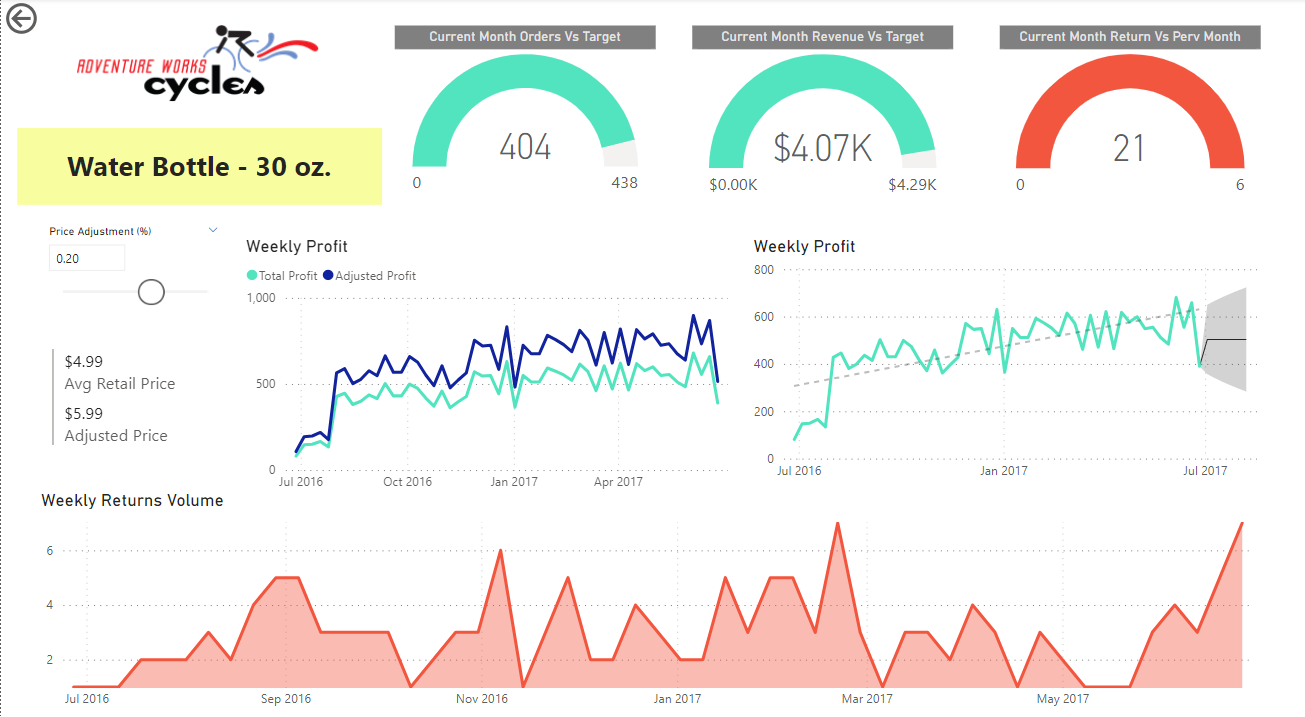

What the dashboard file says about the page in this screenshot:
{"tool":"powerbi","page":{"name":"Product Detail","canvas":[1280,720],"ordinal":1},"visuals":[{"type":"image","box":[69.9,0,248.2,127.5],"z":0},{"type":"lineChart","title":"Weekly Profit","fields":{"Y":["AW_Sales.Total Profit"],"Category":["AW_Calendar_Lookup.Start of Week"]},"box":[730.8,231.7,514.1,248.2],"z":1000},{"type":"areaChart","title":"Weekly Returns Volume","fields":{"Category":["AW_Calendar_Lookup.Start of Week"],"Y":["AW_Returns.Total Returns"]},"box":[34.3,479.9,1210.6,223.5],"z":2000},{"type":"gauge","title":"Current Month Orders Vs Target","fields":{"Y":["AW_Sales.Total Orders"],"MaxValue":["AW_Sales.Order Target"]},"box":[385.3,27.4,255,175],"z":3000},{"type":"gauge","title":"Current Month Revenue Vs Target","fields":{"Y":["AW_Sales.Total Revenue"],"MaxValue":["AW_Sales.Revenue Target"]},"box":[675.9,27.4,255,175],"z":4000},{"type":"gauge","title":"Current Month Return Vs Perv Month","fields":{"Y":["AW_Returns.Total Returns"],"MaxValue":["AW_Returns.Perv Month Return"]},"box":[976.2,27.4,255,175.5],"z":5000},{"type":"card","fields":{"Values":["Min(AW_Products_Lookup.ProductName)"]},"box":[16.5,127.5,356.5,75.4],"z":6000},{"type":"actionButton","box":[0,0,100,40],"z":7000},{"type":"slicer","fields":{"Values":["Price Adjustment (%).Price Adjustment (%)"]},"box":[34.3,216.6,190.6,109.7],"z":8000},{"type":"multiRowCard","fields":{"Values":["AW_Products_Lookup.Avg Retail Price","AW_Products_Lookup.Adjusted Price"]},"box":[45.2,338.6,190.6,106.9],"z":9000},{"type":"lineChart","title":"Weekly Profit","fields":{"Y":["AW_Sales.Total Profit","AW_Sales.Adjusted Profit"],"Category":["AW_Calendar_Lookup.Start of Week"]},"box":[234.4,231.7,496.3,259.1],"z":10000}]}

Visuals, with their boxes on the page's 1280x720 design canvas (x1, y1, x2, y2). These are canvas units, not pixel positions in the 1305x717 screenshot, which may show the page scaled, cropped or inside an application window:
image: x1=70 y1=0 x2=318 y2=128
"Weekly Profit" lineChart: x1=731 y1=232 x2=1245 y2=480
"Weekly Returns Volume" areaChart: x1=34 y1=480 x2=1245 y2=703
"Current Month Orders Vs Target" gauge: x1=385 y1=27 x2=640 y2=202
"Current Month Revenue Vs Target" gauge: x1=676 y1=27 x2=931 y2=202
"Current Month Return Vs Perv Month" gauge: x1=976 y1=27 x2=1231 y2=203
card - Min(AW_Products_Lookup.ProductName): x1=16 y1=128 x2=373 y2=203
actionButton: x1=0 y1=0 x2=100 y2=40
slicer - Price Adjustment (%).Price Adjustment (%): x1=34 y1=217 x2=225 y2=326
multiRowCard - AW_Products_Lookup.Avg Retail Price x AW_Products_Lookup.Adjusted Price: x1=45 y1=339 x2=236 y2=446
"Weekly Profit" lineChart: x1=234 y1=232 x2=731 y2=491
